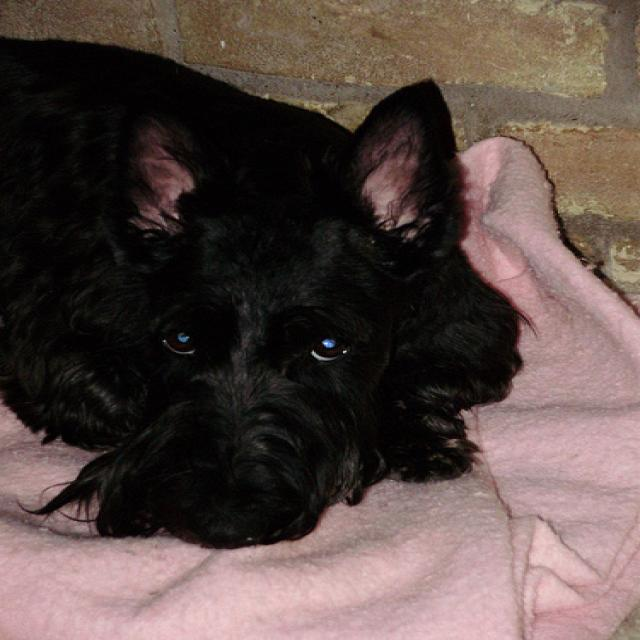dog-scottish_terrier: (2, 28, 536, 562)
